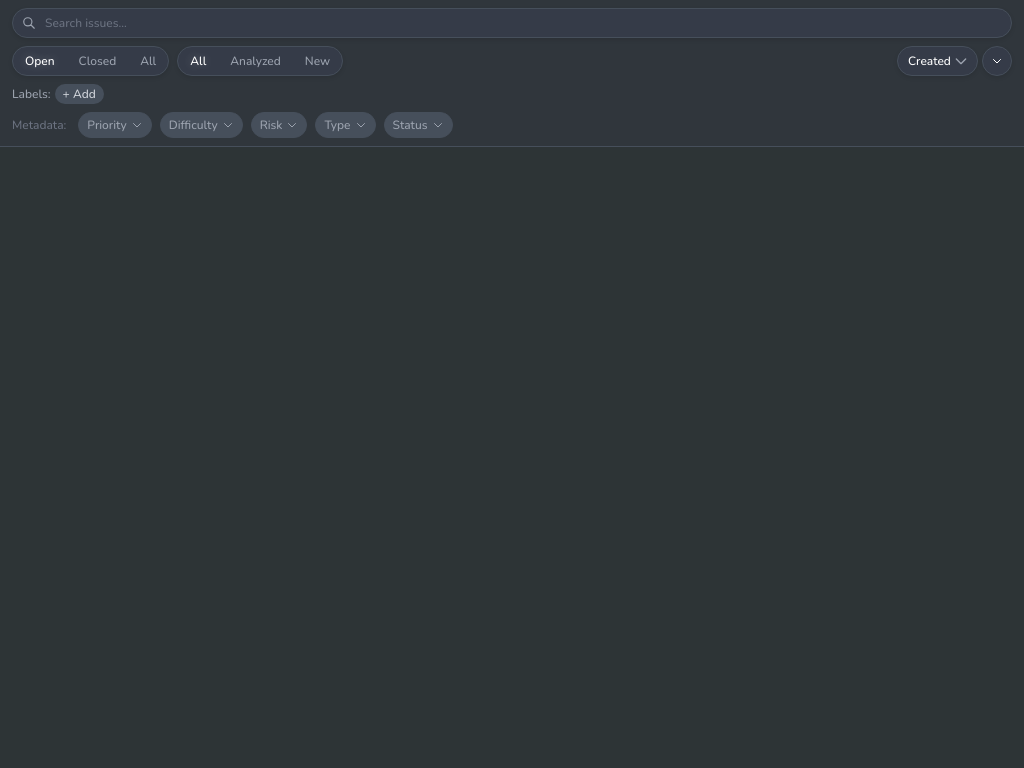
Test case: IssueFilters › Label Filter › closes dropdown after selecting a label
Open dropdown
Step 1. Click the button "+ Add" → (79, 94), box [55,84,104,104]
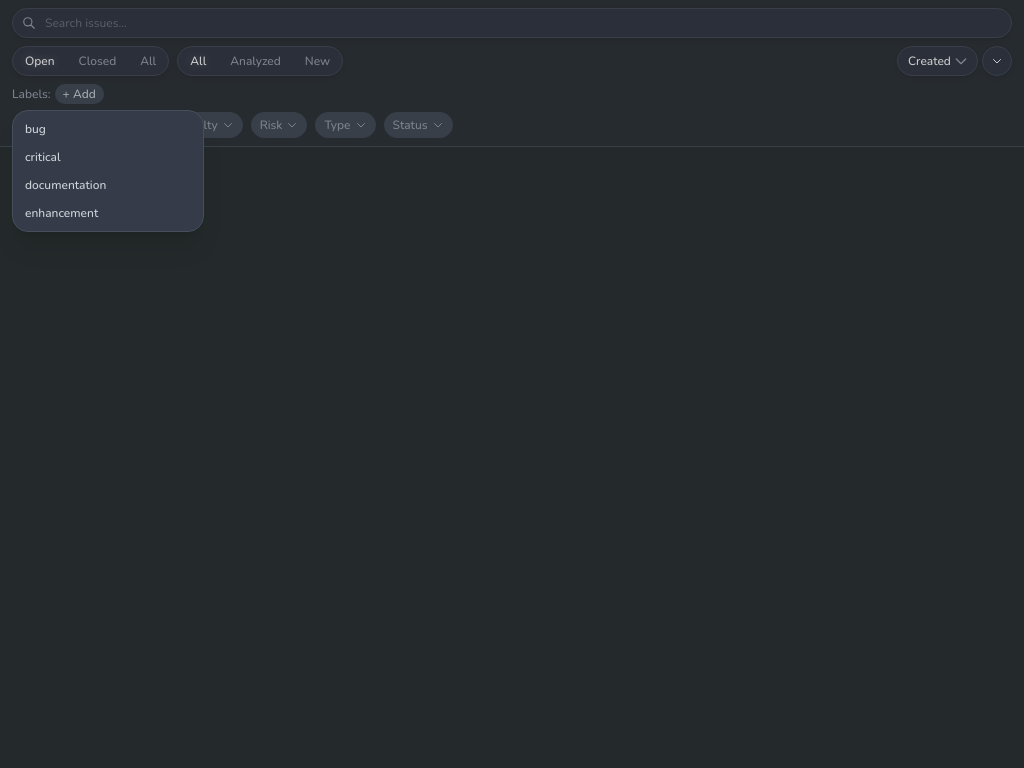
Expected: the button "enhancement" is shown
Click a label
Step 2. Click the button "enhancement" → (108, 213), box [13,199,203,227]
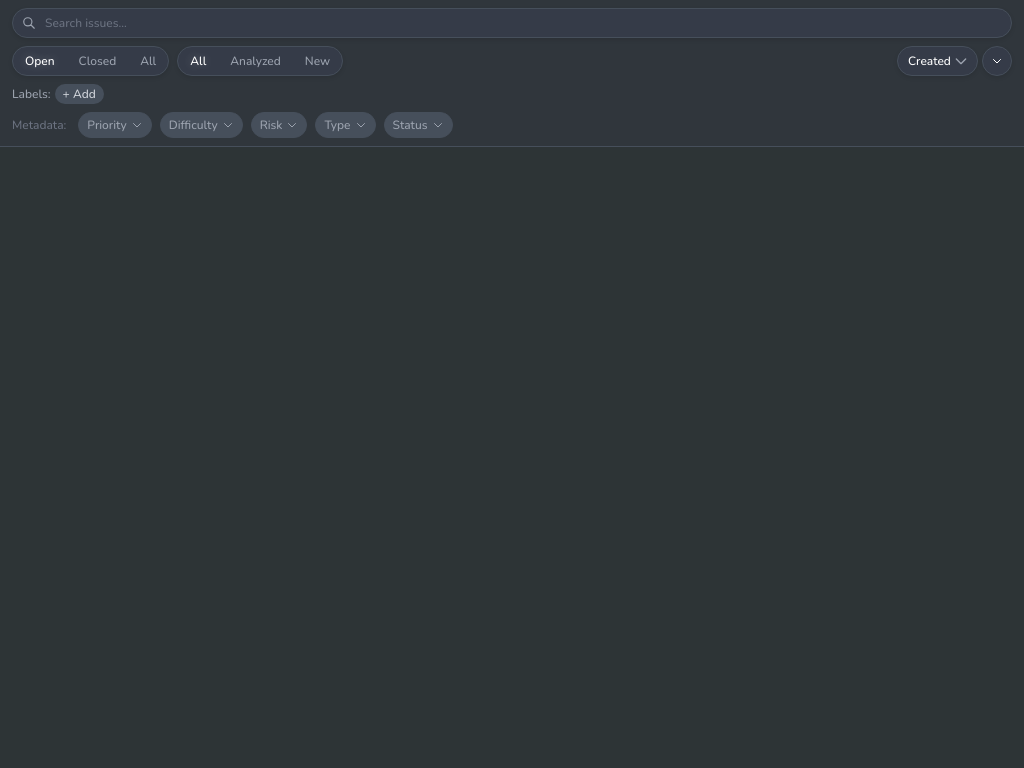
Expected: the element with class "max-h-48" is gone
